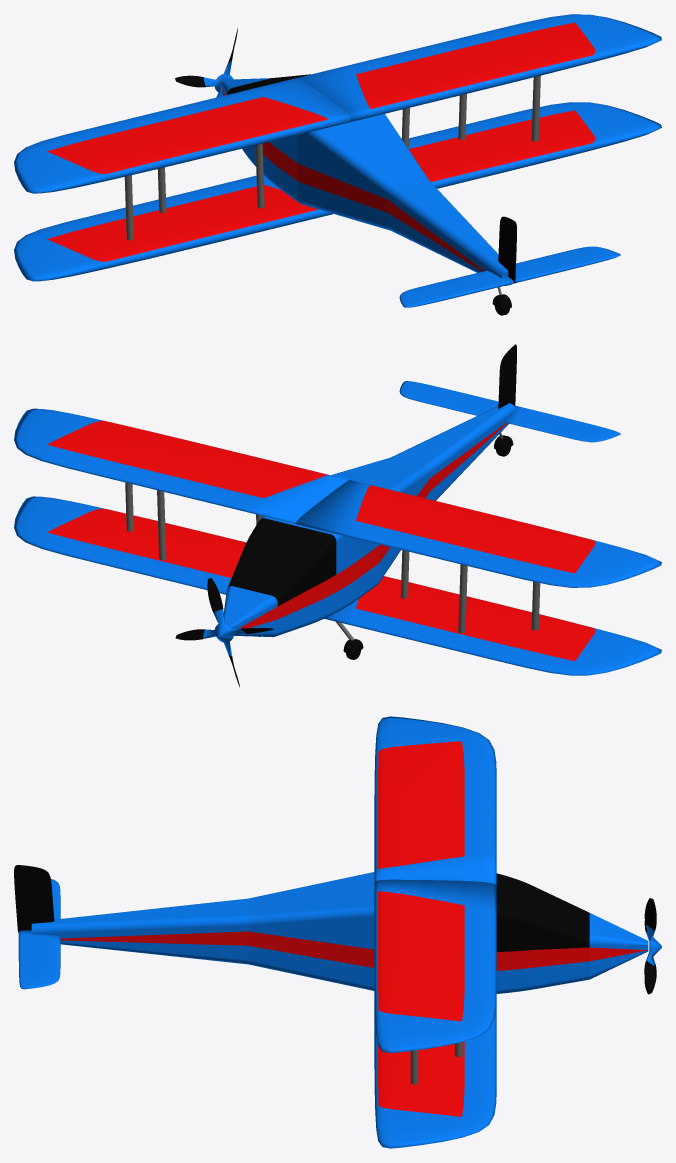
Rendered from ikiqanad.fbx.
3 renders of one model, top to bottom at view 1: azimuth 30°, elevation 25°; view 2: azimuth 150°, elevation 25°; view 3: azimuth 270°, elevation 25°, orthographic. The views are drawn at different scales.
Visible parts, largest first — view 1: Cube.047, Cube.048, Cube.009, Cube.017; view 2: Cube.047, Cube.048, Cube.009, Cube.017; view 3: Cube.009, Cube.048, Cube.047, Cube.017.
Part boxes in pixels (bbox=[...]): Cube.047: bbox=[14, 78, 350, 281]; Cube.048: bbox=[296, 14, 661, 188]; Cube.009: bbox=[221, 74, 620, 315]; Cube.017: bbox=[175, 28, 237, 97]; Cube.047: bbox=[295, 480, 661, 675]; Cube.048: bbox=[14, 408, 348, 636]; Cube.009: bbox=[223, 344, 620, 637]; Cube.017: bbox=[175, 578, 273, 687]; Cube.009: bbox=[14, 865, 648, 993]; Cube.048: bbox=[374, 879, 496, 1148]; Cube.047: bbox=[374, 716, 496, 884]; Cube.017: bbox=[644, 898, 661, 994].
Bounding box in the file's own units: 2493 × 564 × 2027.
